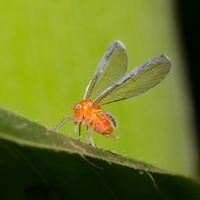insect: (54, 40, 170, 145)
